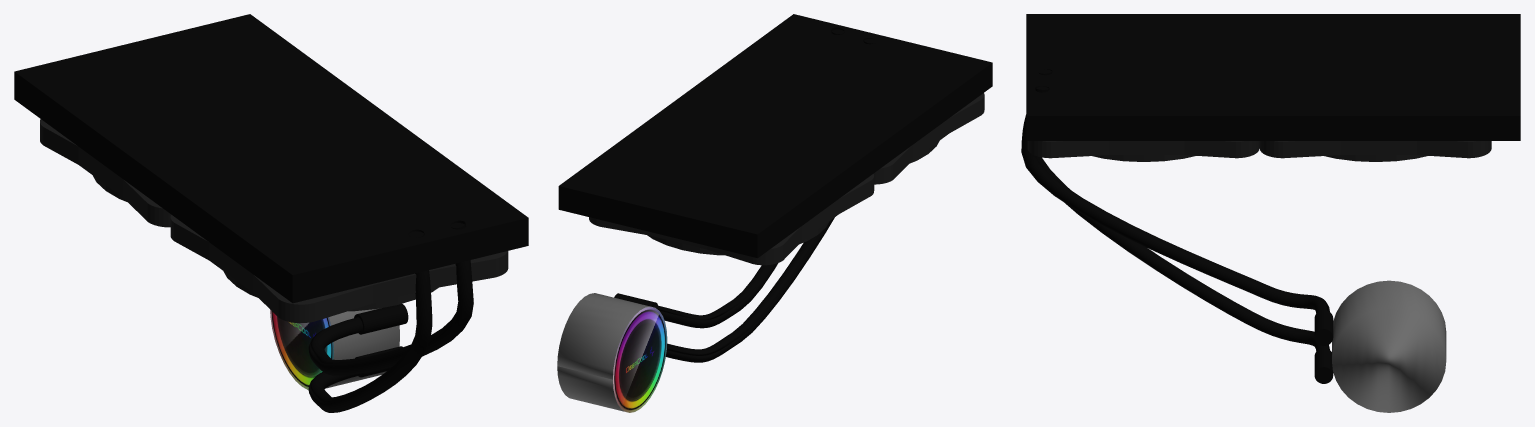
File: cooler.glb
The picture shows the model from 3 angles, left to right: view 1: azimuth 30°, elevation 25°; view 2: azimuth 150°, elevation 25°; view 3: azimuth 270°, elevation 25°; orthographic projection. The views are drawn at different scales.
Visible parts, largest first — view 1: AIO; view 2: AIO; view 3: AIO.
Boxes of the visible parts, x1=… form: AIO: x1=14, y1=14, x2=528, y2=412; AIO: x1=557, y1=14, x2=992, y2=412; AIO: x1=1021, y1=14, x2=1520, y2=412.
Size of the model in its own units: 1.61 by 1.74 by 2.81.
Materials: 4 (4 with a texture image).
